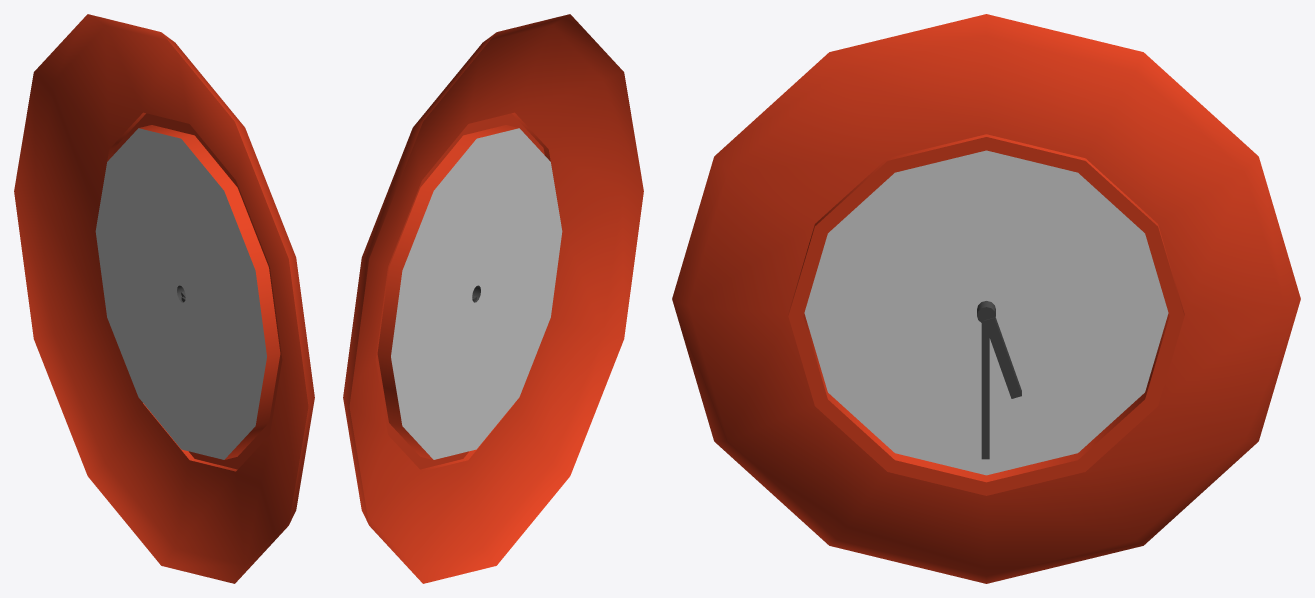
The model's file is Clock.fbx.
3 views of the same model, side by side, from view 1: azimuth 30°, elevation 25°; view 2: azimuth 150°, elevation 25°; view 3: azimuth 270°, elevation 25° (orthographic). The views are drawn at different scales.
Visible parts, largest first — view 1: Circle; view 2: Circle; view 3: Circle.
Boxes of the visible parts, x1=… form: Circle: x1=14, y1=14, x2=314, y2=583; Circle: x1=343, y1=14, x2=643, y2=583; Circle: x1=672, y1=14, x2=1300, y2=583.
Size of the model in its own units: 2.36 by 36 by 36.
